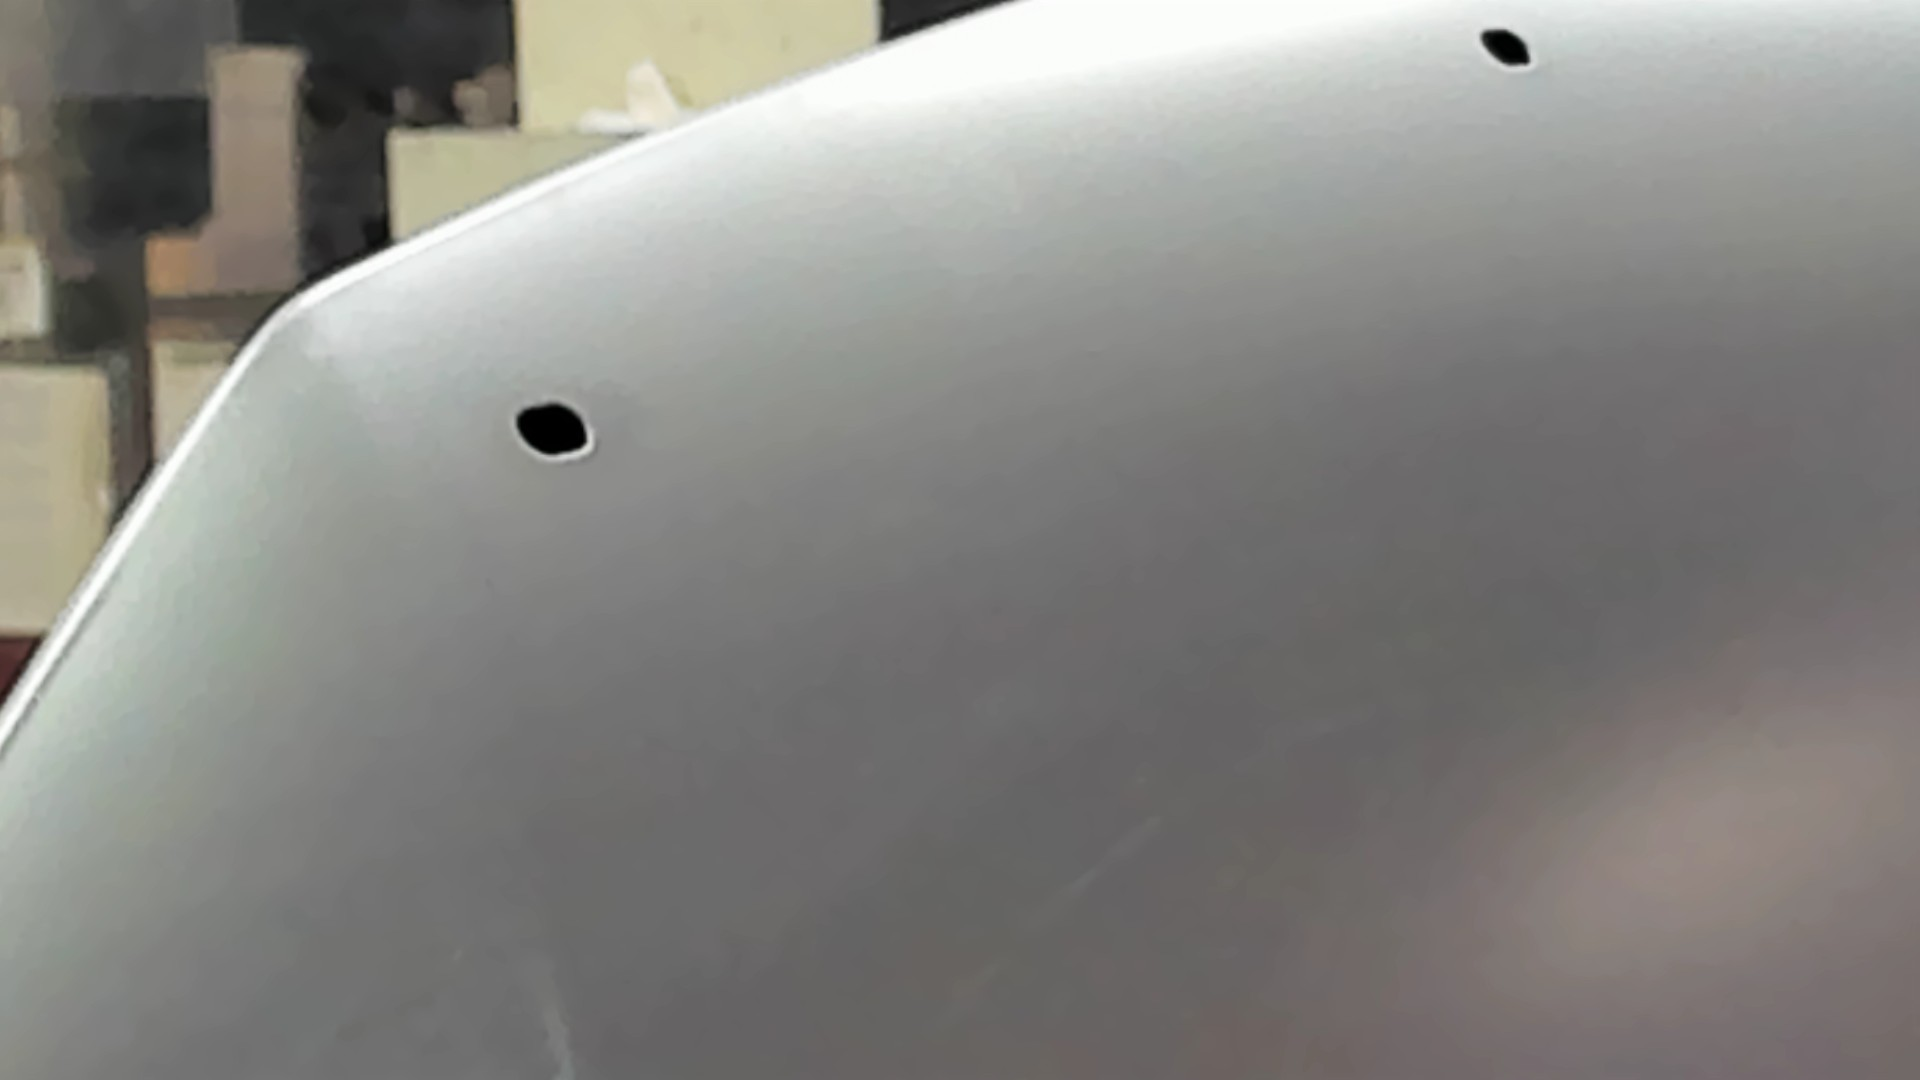amorfo: (505, 388, 607, 473), (1472, 18, 1543, 79)
